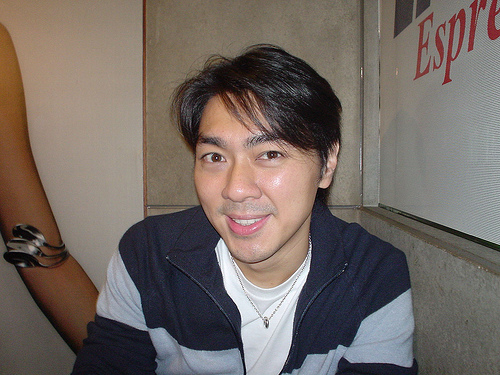without_mask: (175, 56, 356, 267)
